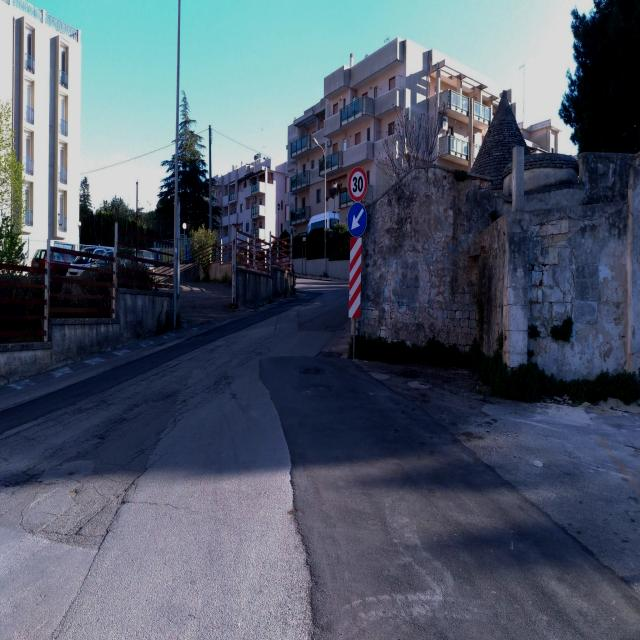car: (27, 242, 77, 274)
